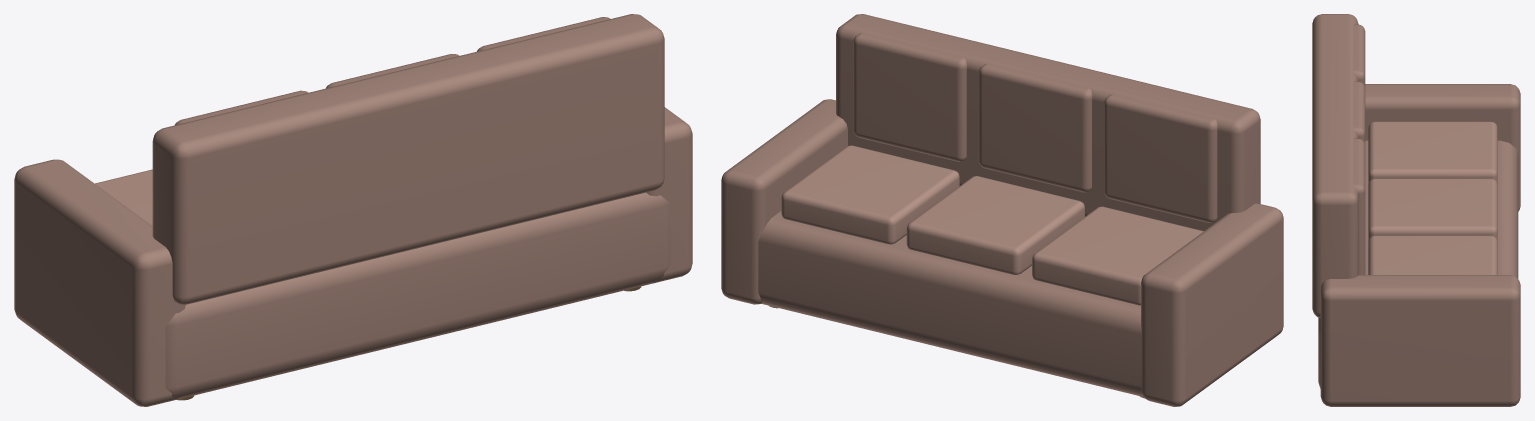
File: sofa-brisa.glb
3 views of the same model, side by side, from view 1: azimuth 30°, elevation 25°; view 2: azimuth 150°, elevation 25°; view 3: azimuth 270°, elevation 25° (orthographic). The views are drawn at different scales.
Parts seen in each view (by area): view 1: Encosto contínuo, Estrutura estofada, Braço esquerdo, Braço direito, Almofada de assento, Almofada de encosto.001, Almofada de encosto, Almofada de encosto.002; view 2: Estrutura estofada, Braço esquerdo, Encosto contínuo, Almofada de encosto.001, Almofada de encosto.002, Almofada de encosto, Almofada de assento.002, Almofada de assento.001, Braço direito, Almofada de assento; view 3: Braço direito, Encosto contínuo, Almofada de assento, Almofada de assento.001, Braço esquerdo, Almofada de assento.002, Estrutura estofada, Almofada de encosto.002, Almofada de encosto.001, Almofada de encosto.
Part boxes in pixels (<box>): Encosto contínuo: <box>152,14,664,304</box>; Estrutura estofada: <box>165,192,670,399</box>; Braço esquerdo: <box>14,159,185,406</box>; Braço direito: <box>646,107,692,283</box>; Almofada de assento: <box>95,169,152,225</box>; Almofada de encosto.001: <box>326,54,459,88</box>; Almofada de encosto: <box>175,90,308,125</box>; Almofada de encosto.002: <box>477,17,610,51</box>; Estrutura estofada: <box>758,211,1142,396</box>; Braço esquerdo: <box>1141,203,1283,406</box>; Encosto contínuo: <box>836,14,1260,230</box>; Almofada de encosto.001: <box>978,63,1092,192</box>; Almofada de encosto.002: <box>853,33,966,161</box>; Almofada de encosto: <box>1104,94,1217,222</box>; Almofada de assento.002: <box>781,145,959,244</box>; Almofada de assento.001: <box>906,176,1084,274</box>; Braço direito: <box>721,99,847,304</box>; Almofada de assento: <box>1032,206,1203,305</box>; Braço direito: <box>1320,275,1520,406</box>; Encosto contínuo: <box>1312,14,1358,317</box>; Almofada de assento: <box>1368,121,1497,184</box>; Almofada de assento.001: <box>1368,178,1497,241</box>; Braço esquerdo: <box>1365,84,1520,211</box>; Almofada de assento.002: <box>1368,235,1497,274</box>; Estrutura estofada: <box>1318,140,1518,388</box>; Almofada de encosto.002: <box>1353,138,1365,274</box>; Almofada de encosto.001: <box>1353,81,1365,144</box>; Almofada de encosto: <box>1353,24,1365,87</box>.
Bounding box in the file's own units: 1.8 × 0.815 × 0.7524.
